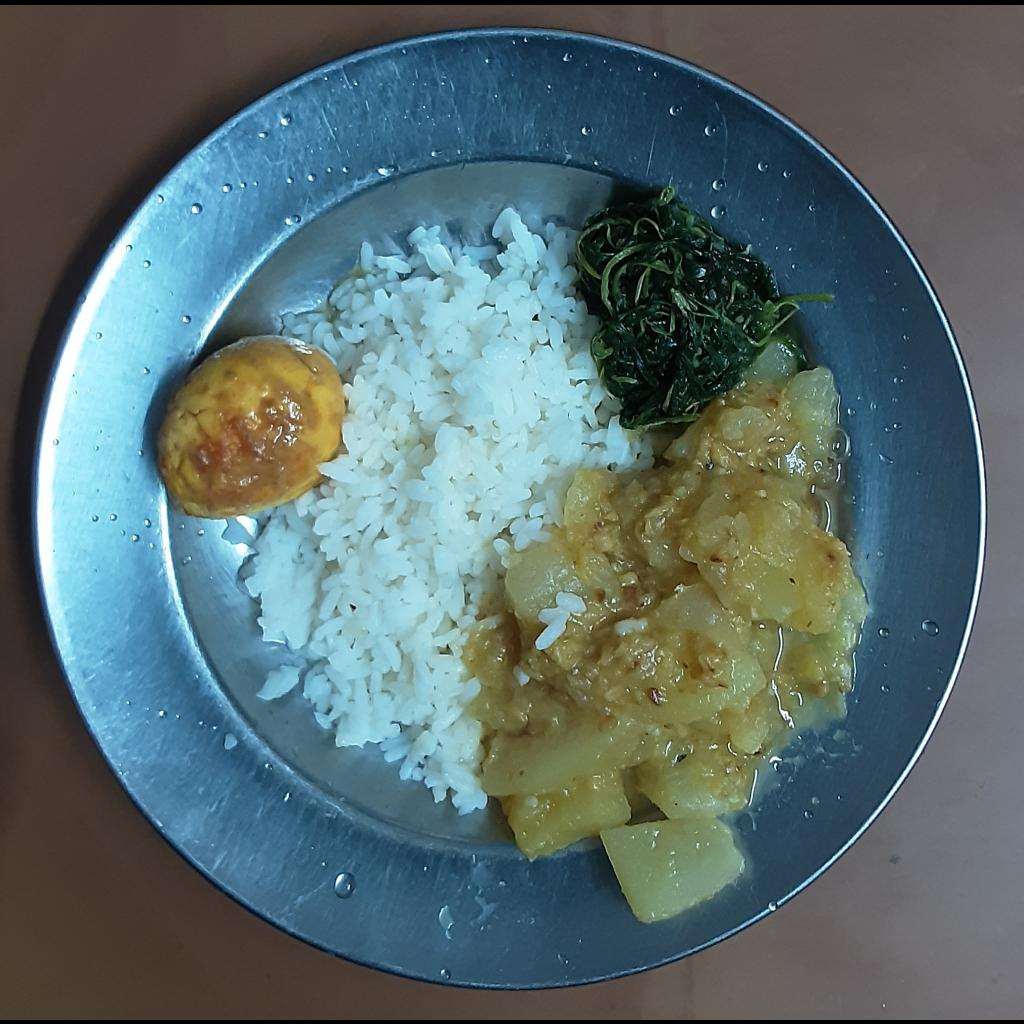daal: (569, 391, 786, 689)
egg-boiled: (155, 331, 342, 514)
papaya: (456, 331, 876, 922)
rice: (219, 200, 654, 816)
shak: (579, 176, 834, 433)
